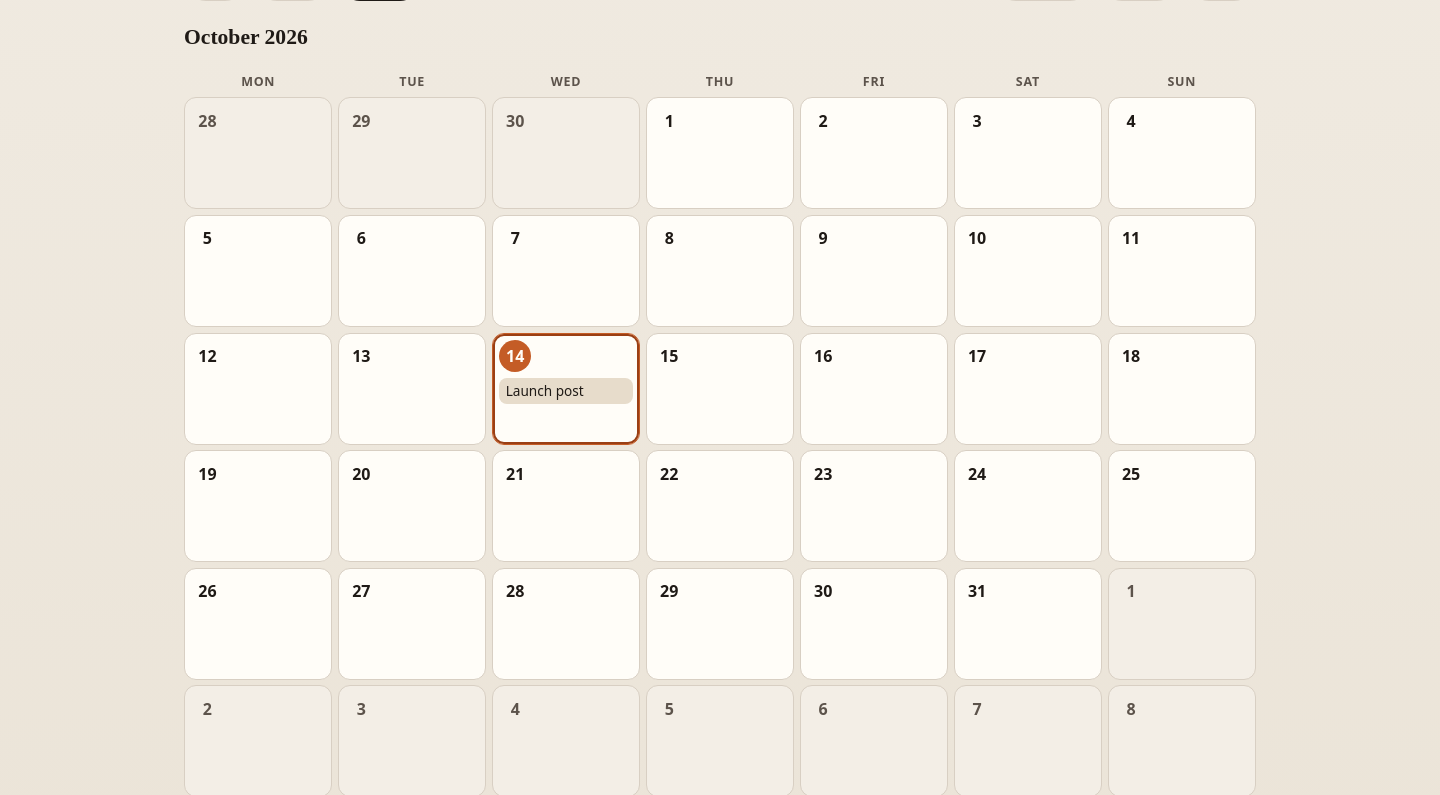
Test case: B-009 calendar › opens post details from the calendar
(page scrolled)
Step 1. Click the link "Launch post" → x=566, y=391, box [499,378,633,404]
(page scrolled)
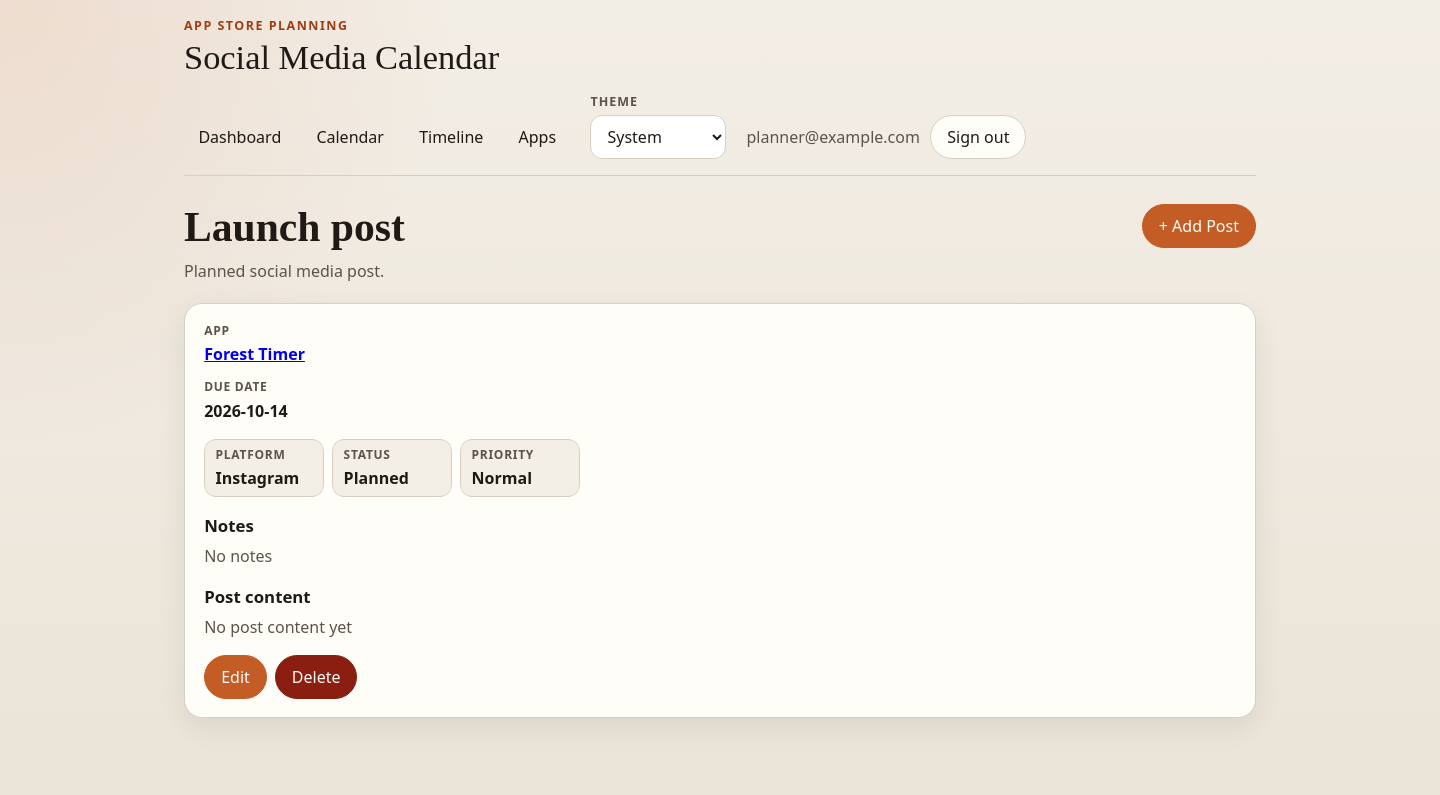
Result: the heading "Launch post" is shown at [184,204,405,252]
Result: the link "Edit" is shown at [204,655,267,699]
